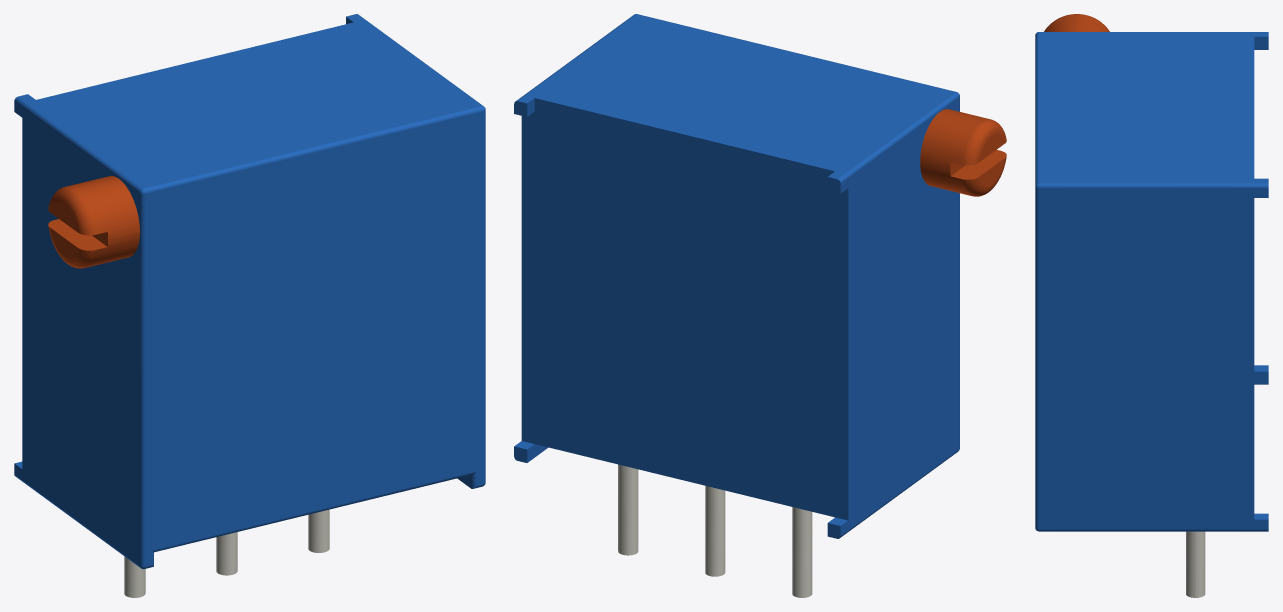
Rendered from kc-potentiometer_bourns_3299x_horizontal.glb.
3 views of the same model, side by side, from view 1: azimuth 30°, elevation 25°; view 2: azimuth 150°, elevation 25°; view 3: azimuth 270°, elevation 25° (orthographic). The views are drawn at different scales.
Parts seen in each view (by area): view 1: 0_0.16666666666666666_0.5_0, 0.4166666666666667_0.08333333333333333_0_0, 0.6666666666666666_0.6666666666666666_0.5833333333333334_0.8; view 2: 0_0.16666666666666666_0.5_0, 0.4166666666666667_0.08333333333333333_0_0, 0.6666666666666666_0.6666666666666666_0.5833333333333334_0.8; view 3: 0_0.16666666666666666_0.5_0, 0.6666666666666666_0.6666666666666666_0.5833333333333334_0.8, 0.4166666666666667_0.08333333333333333_0_0.
Part boxes in pixels (bbox=[...]): 0_0.16666666666666666_0.5_0: bbox=[14, 14, 485, 569]; 0.4166666666666667_0.08333333333333333_0_0: bbox=[48, 176, 139, 268]; 0.6666666666666666_0.6666666666666666_0.5833333333333334_0.8: bbox=[124, 509, 329, 597]; 0_0.16666666666666666_0.5_0: bbox=[514, 14, 959, 538]; 0.4166666666666667_0.08333333333333333_0_0: bbox=[920, 109, 1006, 196]; 0.6666666666666666_0.6666666666666666_0.5833333333333334_0.8: bbox=[618, 464, 812, 597]; 0_0.16666666666666666_0.5_0: bbox=[1035, 32, 1268, 531]; 0.6666666666666666_0.6666666666666666_0.5833333333333334_0.8: bbox=[1186, 531, 1205, 597]; 0.4166666666666667_0.08333333333333333_0_0: bbox=[1044, 14, 1109, 31].
Size of the model in its own units: 1.11 by 1.28 by 0.6101.
